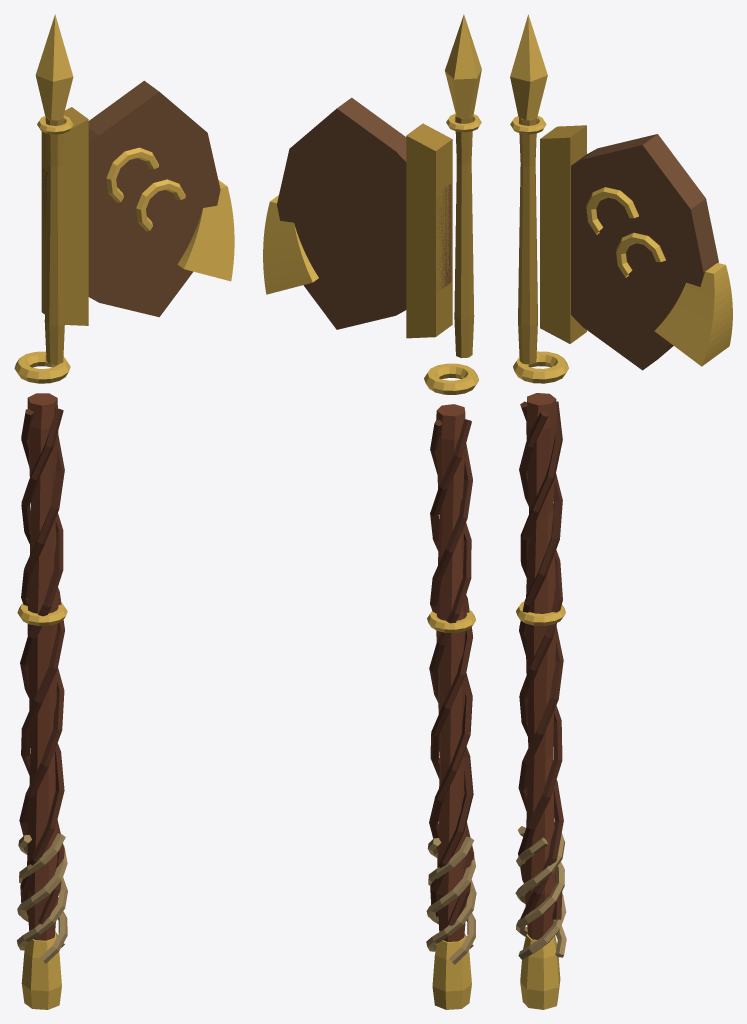
File: staff_broadaxe.glb
3 renders of one model, left to right at view 1: azimuth 30°, elevation 25°; view 2: azimuth 150°, elevation 25°; view 3: azimuth 330°, elevation 25°, orthographic.
Parts seen in each view (by area): view 1: Ba_Face, Ba_Shaft, Ba_Back, Ba_Rod, Ba_Bit, Ba_Twist2, Ba_Twist1, Ba_Twist0, Ba_Spear, Ba_Ferrule, Ba_Collar, Ba_Rope2 (+5 smaller); view 2: Ba_Face, Ba_Back, Ba_Shaft, Ba_Rod, Ba_Bit, Ba_Twist1, Ba_Twist0, Ba_Twist2, Ba_Spear, Ba_Ferrule, Ba_Collar, Ba_Rope1 (+3 smaller); view 3: Ba_Face, Ba_Shaft, Ba_Back, Ba_Bit, Ba_Rod, Ba_Twist2, Ba_Twist0, Ba_Twist1, Ba_Spear, Ba_Ferrule, Ba_Collar, Ba_Swirl0 (+5 smaller).
Boxes of the visible parts, x1=… form: Ba_Face: x1=42, y1=80, x2=220, y2=317; Ba_Shaft: x1=27, y1=393, x2=58, y2=940; Ba_Back: x1=41, y1=107, x2=88, y2=325; Ba_Rod: x1=44, y1=116, x2=64, y2=364; Ba_Bit: x1=177, y1=180, x2=234, y2=281; Ba_Twist2: x1=21, y1=408, x2=64, y2=924; Ba_Twist1: x1=20, y1=409, x2=64, y2=914; Ba_Twist0: x1=19, y1=433, x2=64, y2=900; Ba_Spear: x1=35, y1=14, x2=73, y2=120; Ba_Ferrule: x1=21, y1=932, x2=61, y2=1009; Ba_Collar: x1=14, y1=351, x2=70, y2=383; Ba_Rope2: x1=19, y1=833, x2=67, y2=963; Ba_Face: x1=277, y1=97, x2=451, y2=329; Ba_Back: x1=406, y1=123, x2=452, y2=338; Ba_Shaft: x1=436, y1=404, x2=466, y2=941; Ba_Rod: x1=454, y1=114, x2=474, y2=358; Ba_Bit: x1=263, y1=195, x2=318, y2=294; Ba_Twist1: x1=430, y1=419, x2=474, y2=925; Ba_Twist0: x1=429, y1=420, x2=473, y2=916; Ba_Twist2: x1=429, y1=443, x2=472, y2=848; Ba_Spear: x1=444, y1=14, x2=481, y2=118; Ba_Ferrule: x1=432, y1=936, x2=471, y2=1009; Ba_Collar: x1=424, y1=363, x2=478, y2=394; Ba_Rope1: x1=428, y1=836, x2=475, y2=964; Ba_Face: x1=571, y1=134, x2=718, y2=370; Ba_Shaft: x1=524, y1=393, x2=556, y2=939; Ba_Back: x1=540, y1=125, x2=586, y2=343; Ba_Bit: x1=654, y1=263, x2=732, y2=366; Ba_Rod: x1=518, y1=117, x2=537, y2=364; Ba_Twist2: x1=519, y1=412, x2=563, y2=919; Ba_Twist0: x1=518, y1=401, x2=563, y2=919; Ba_Twist1: x1=518, y1=401, x2=562, y2=883; Ba_Spear: x1=510, y1=14, x2=547, y2=120; Ba_Ferrule: x1=520, y1=934, x2=560, y2=1009; Ba_Collar: x1=513, y1=351, x2=568, y2=383; Ba_Swirl0: x1=586, y1=187, x2=638, y2=234.
Size of the model in its own units: 0.548 by 2.53 by 0.164.
